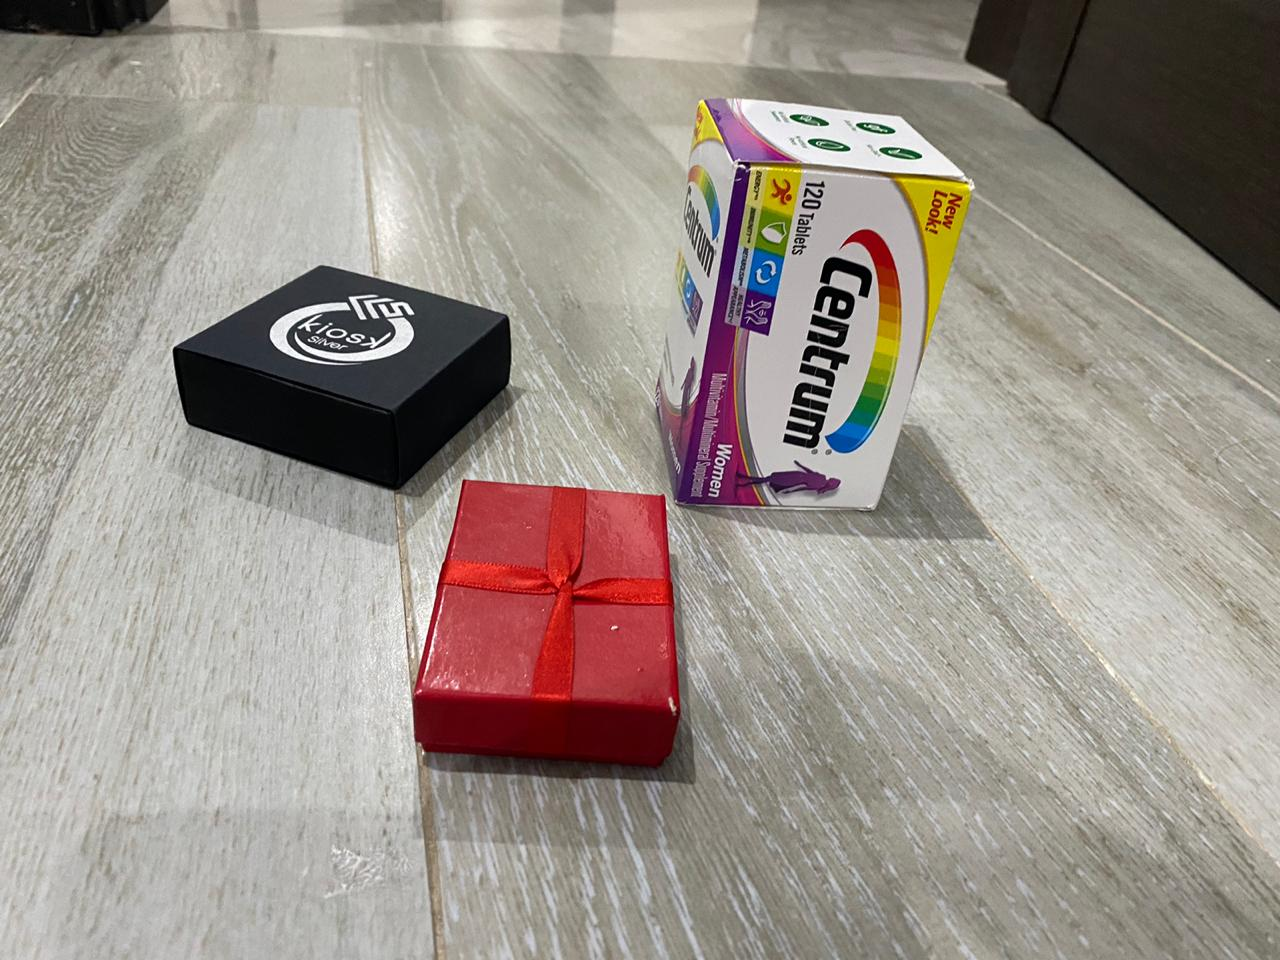Black Box: (414, 481, 683, 770)
Centrum: (653, 91, 978, 511)
Red Box: (169, 263, 518, 488)
